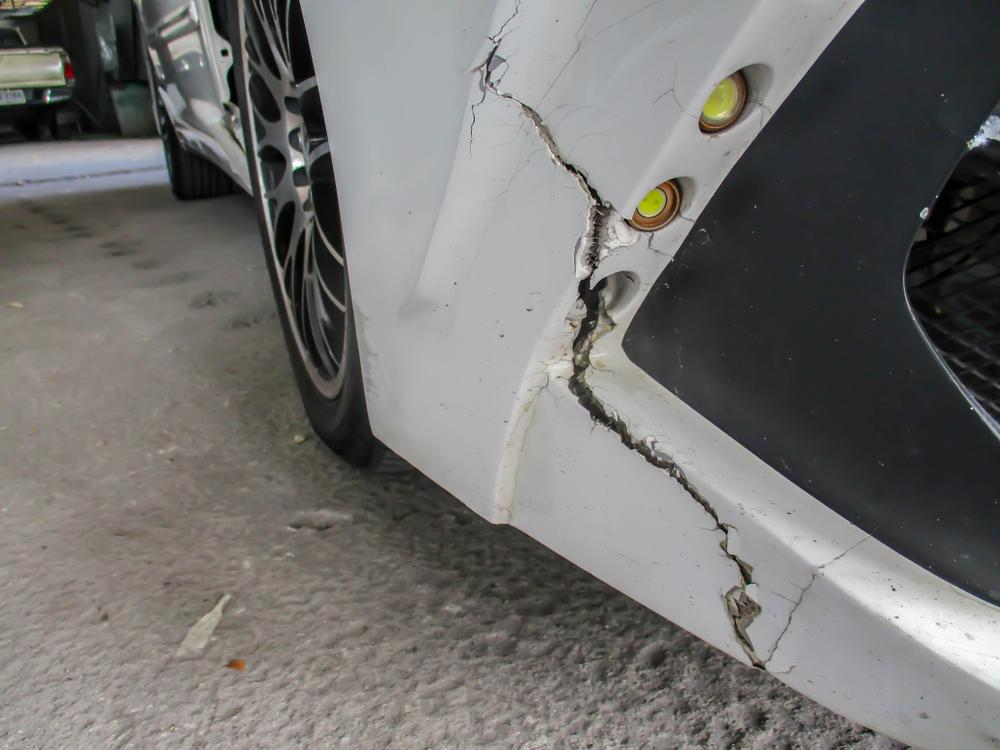crack: (467, 0, 874, 668)
